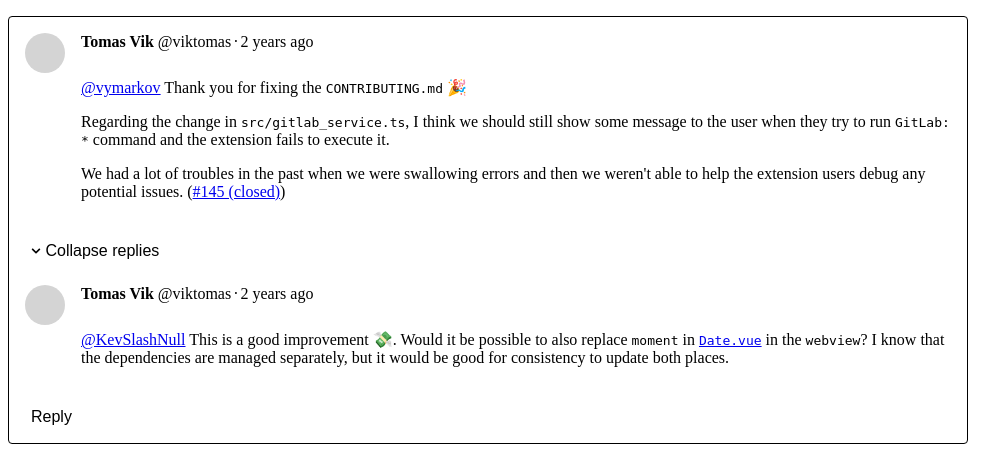
Discussion › with multiple comments › collapsing and uncollapsing › shows reply button and the replies if they were uncollapsed
Click the button with class "js-collapse" at (95, 251), box [25,241,165,261]
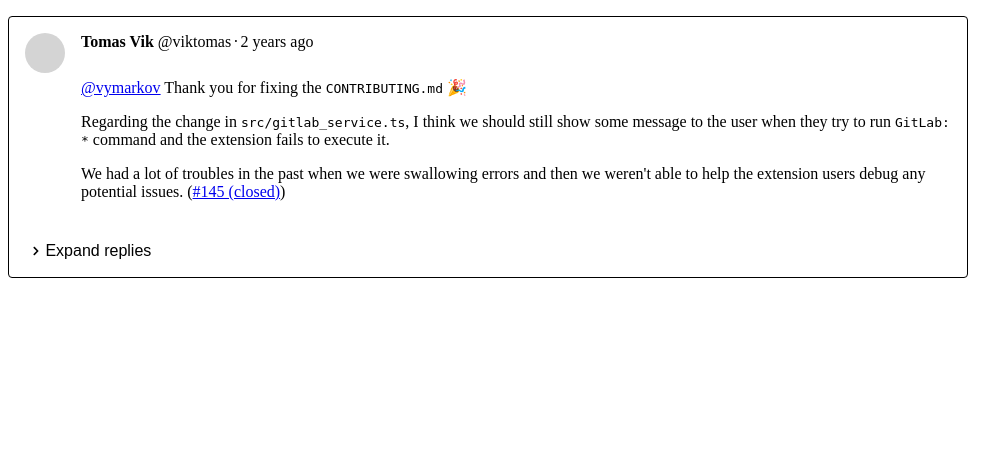
Click the button with class "js-collapse" at (91, 251), box [25,241,157,261]
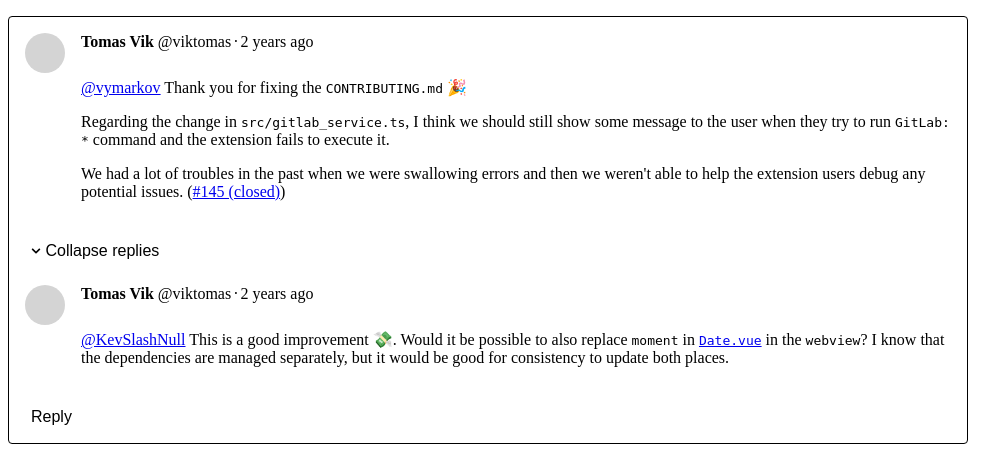
Now the button with class "js-reply" is shown, box [25,407,78,427]
